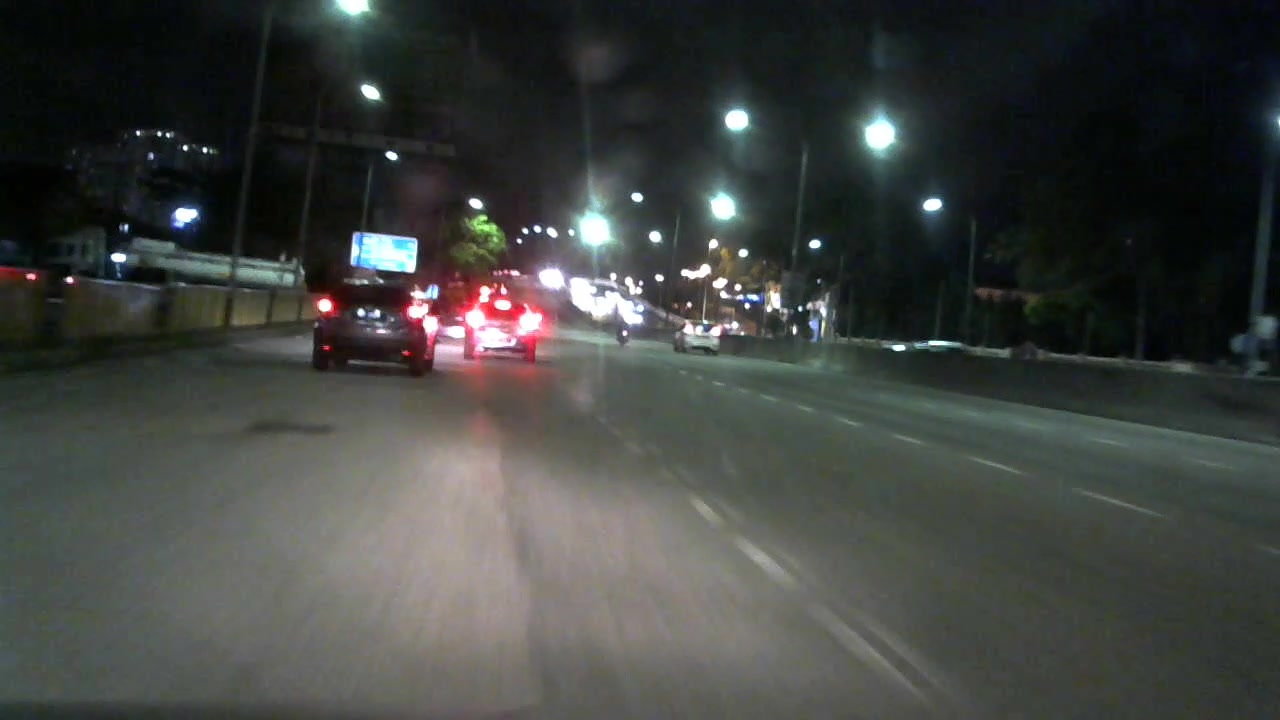Car: (303, 271, 443, 379), (460, 293, 549, 367), (674, 317, 730, 357)
